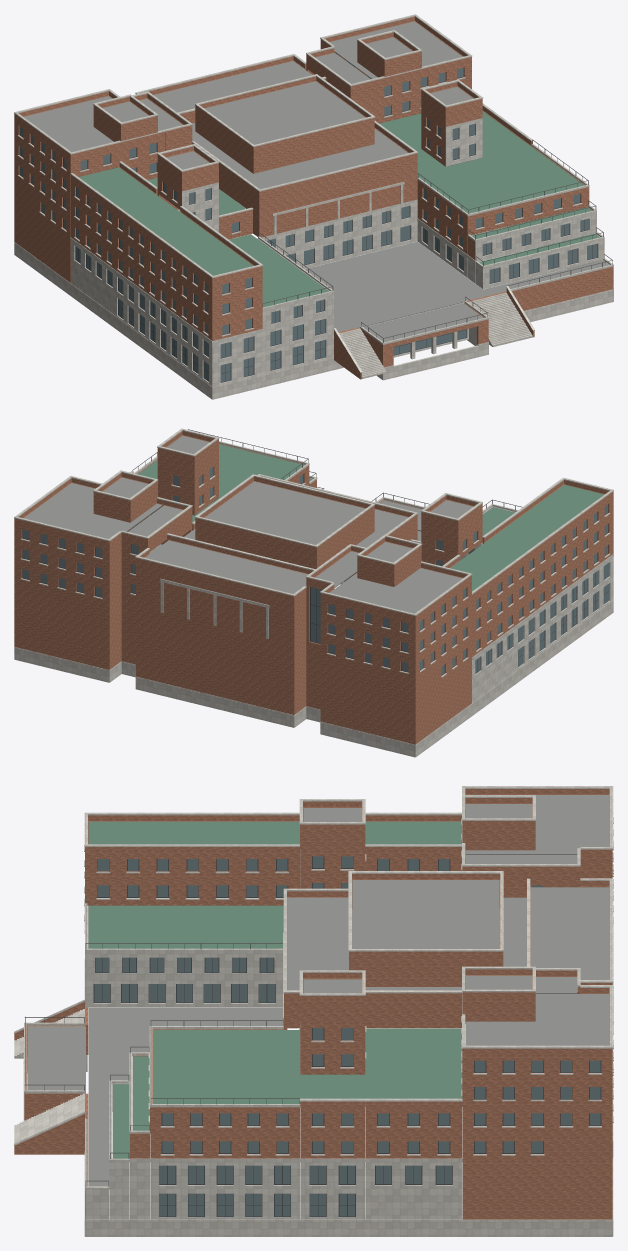
3 renders of one model, top to bottom at view 1: azimuth 30°, elevation 25°; view 2: azimuth 150°, elevation 25°; view 3: azimuth 270°, elevation 25°, orthographic. The views are drawn at different scales.
Visible parts, largest first — view 1: hyedang__brick, hyedang__stone, hyedang__roof, hyedang__deck, hyedang__glass, hyedang__frame, hyedang__metal; view 2: hyedang__brick, hyedang__stone, hyedang__roof, hyedang__deck, hyedang__glass, hyedang__frame, hyedang__metal; view 3: hyedang__brick, hyedang__stone, hyedang__roof, hyedang__deck, hyedang__glass, hyedang__frame, hyedang__metal.
Boxes of the visible parts, x1=… form: hyedang__brick: x1=14, y1=16, x2=613, y2=379; hyedang__stone: x1=14, y1=14, x2=613, y2=399; hyedang__roof: x1=24, y1=21, x2=608, y2=342; hyedang__deck: x1=79, y1=111, x2=599, y2=307; hyedang__glass: x1=20, y1=52, x2=597, y2=382; hyedang__frame: x1=19, y1=68, x2=597, y2=382; hyedang__metal: x1=258, y1=139, x2=612, y2=342; hyedang__brick: x1=14, y1=431, x2=613, y2=744; hyedang__stone: x1=14, y1=428, x2=613, y2=757; hyedang__roof: x1=24, y1=435, x2=473, y2=613; hyedang__deck: x1=138, y1=444, x2=604, y2=591; hyedang__glass: x1=22, y1=467, x2=608, y2=675; hyedang__frame: x1=22, y1=474, x2=608, y2=675; hyedang__metal: x1=132, y1=429, x2=522, y2=509; hyedang__brick: x1=14, y1=789, x2=612, y2=1219; hyedang__stone: x1=14, y1=786, x2=613, y2=1236; hyedang__roof: x1=27, y1=795, x2=609, y2=1186; hyedang__deck: x1=88, y1=821, x2=462, y2=1158; hyedang__glass: x1=94, y1=856, x2=600, y2=1216; hyedang__frame: x1=93, y1=856, x2=601, y2=1217; hyedang__metal: x1=24, y1=897, x2=299, y2=1186.
Size of the model in its own units: 76.32 by 28.98 by 73.93.
7 materials, 2 textured.
